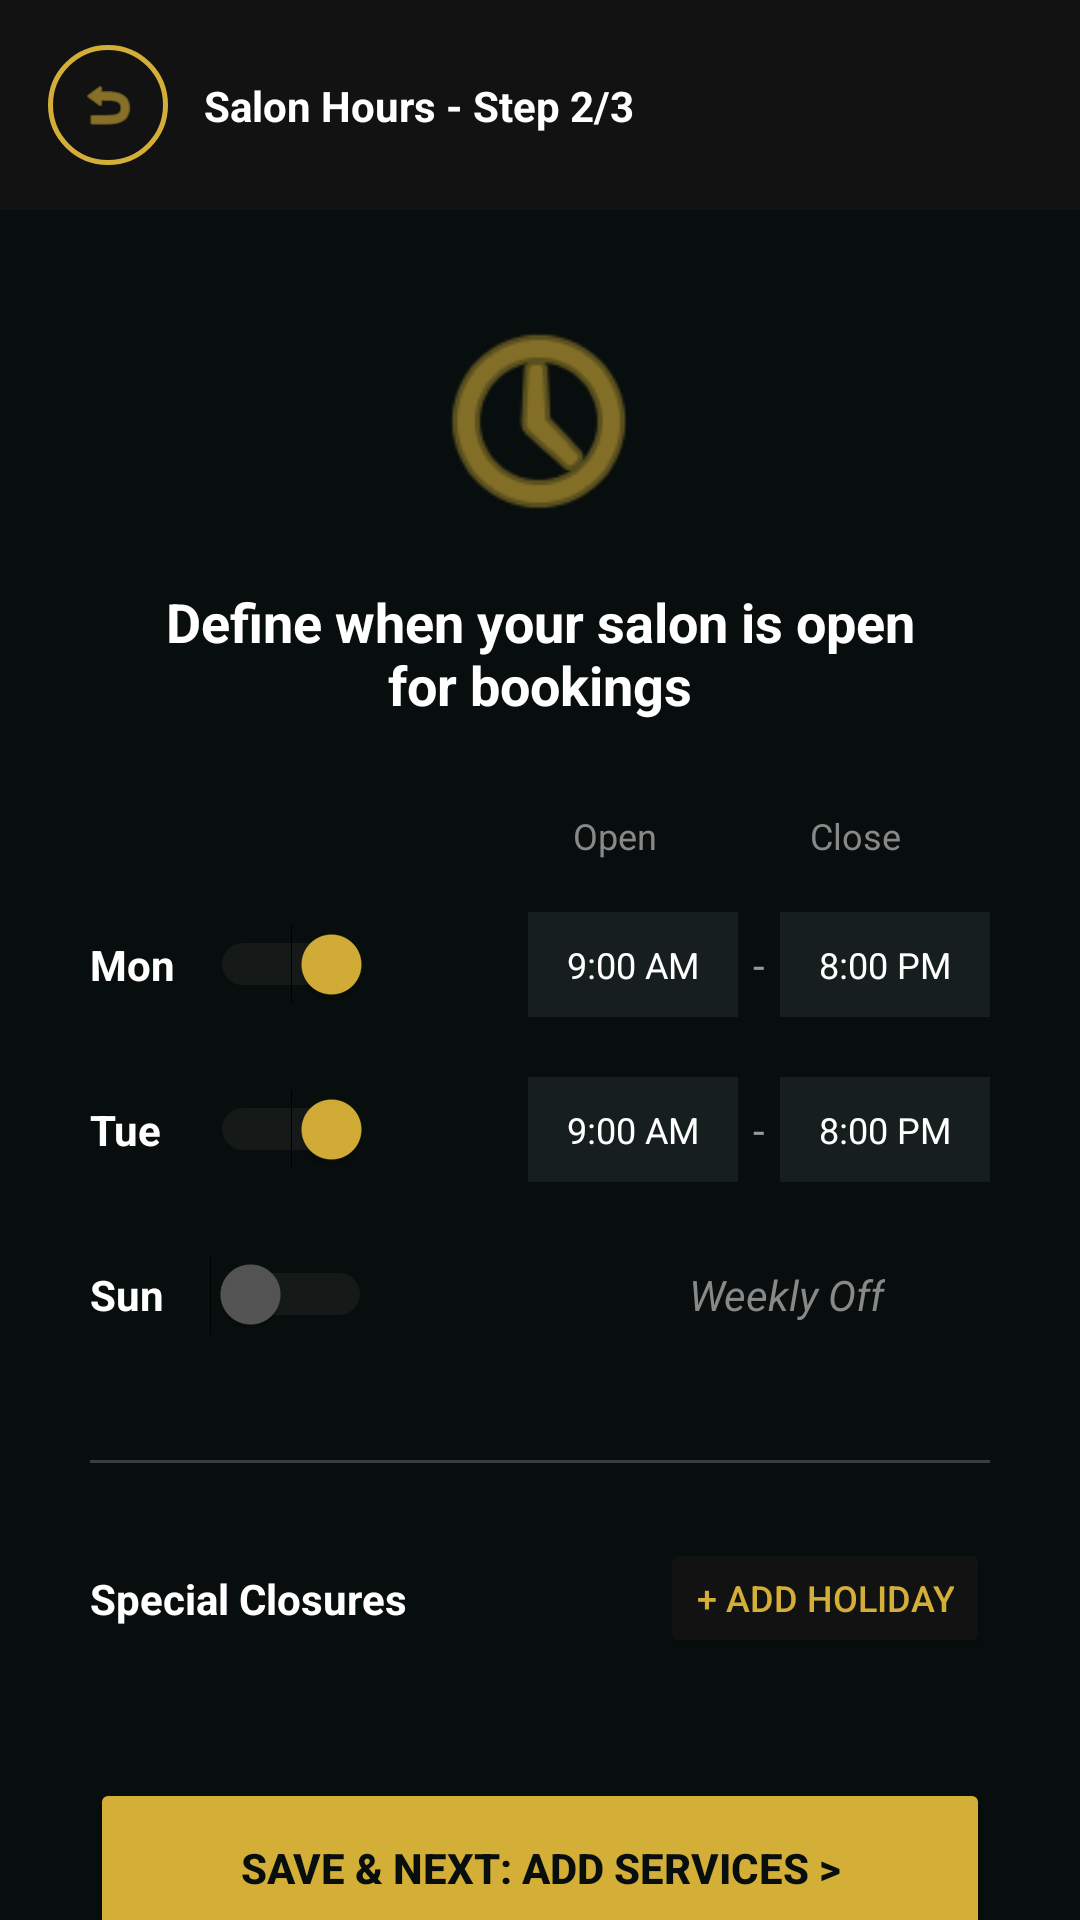

Icons on this 1080 × 1920 Android screen, each with its box as rect(x1, y1, x2, y2):
recent history: rect(452, 334, 626, 508)
revert: rect(48, 45, 168, 165)
